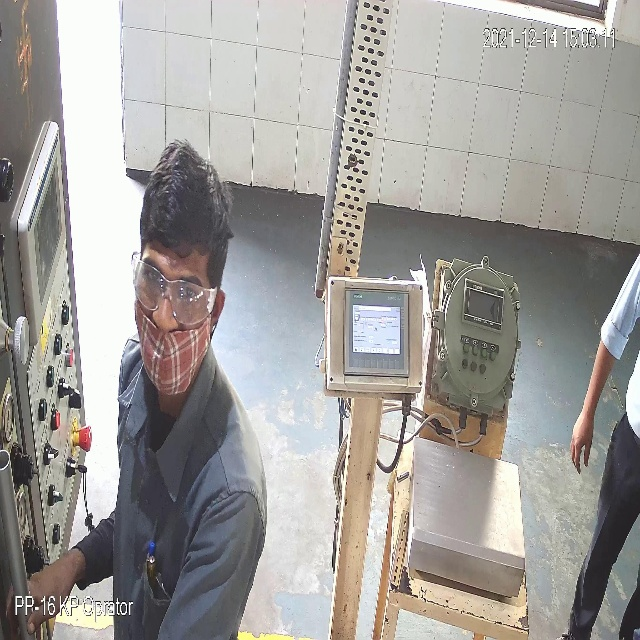Gafas: (126, 255, 210, 322)
Sin_guantes: (567, 331, 624, 483)
